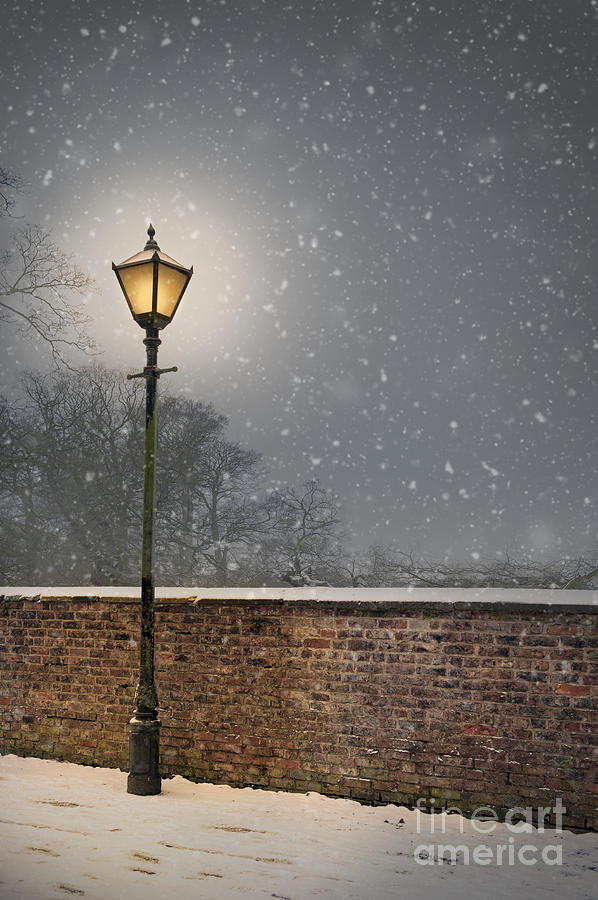Lamp: (77, 226, 254, 798)
